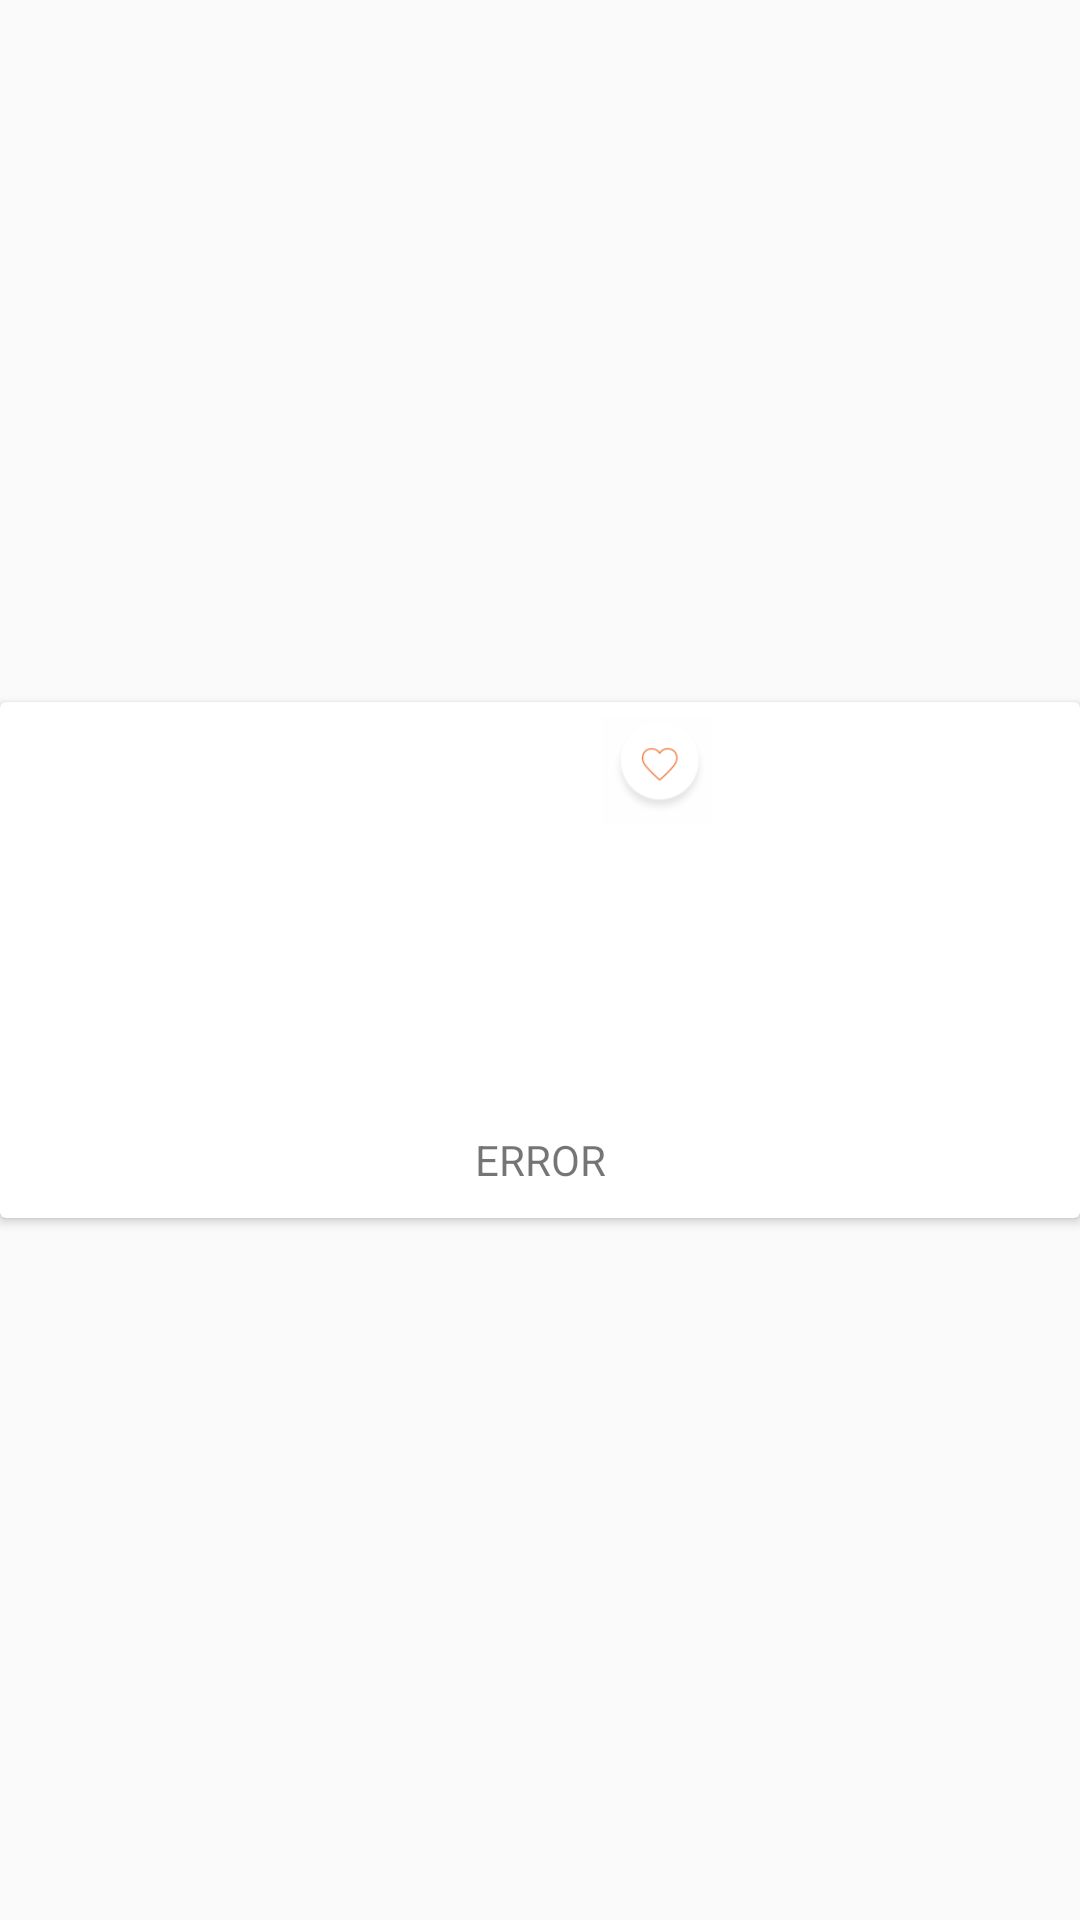

Where to tap for icons on this 1080x1920 app screen, as (x,y):
heart: (659,774)
